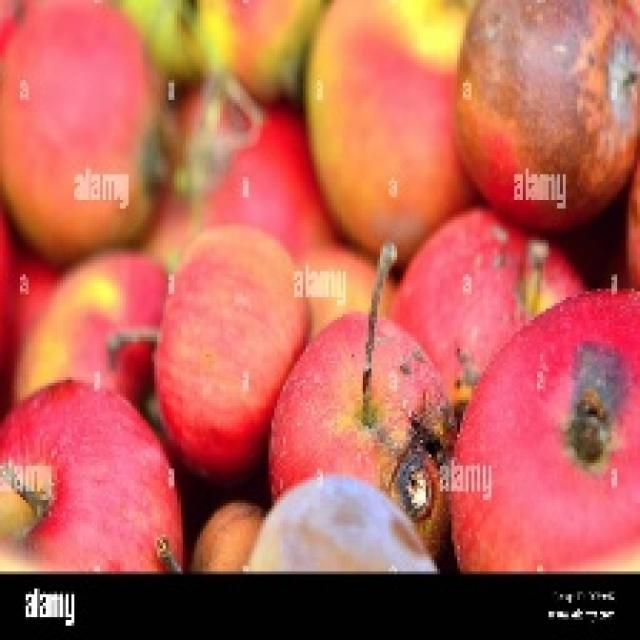rotten_apple: (457, 0, 640, 233), (278, 316, 452, 544)
